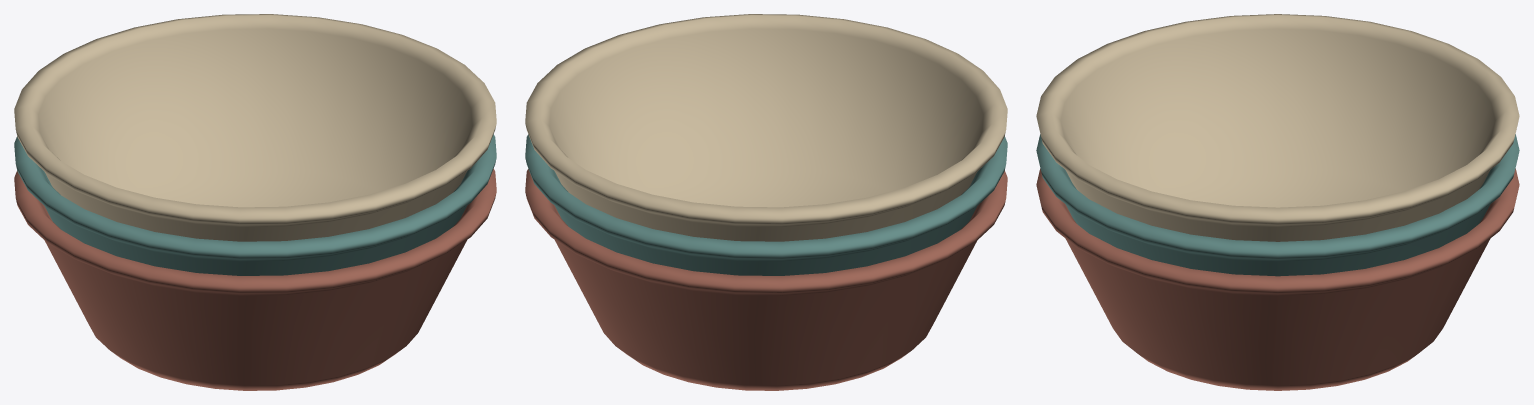
The model's file is basins-v1.glb.
3 views of the same model, side by side, from view 1: azimuth 30°, elevation 25°; view 2: azimuth 150°, elevation 25°; view 3: azimuth 270°, elevation 25° (orthographic).
Visible parts, largest first — view 1: 포갠 플라스틱 대야; view 2: 포갠 플라스틱 대야; view 3: 포갠 플라스틱 대야.
Part boxes in pixels (bbox=[...]): 포갠 플라스틱 대야: bbox=[14, 14, 496, 390]; 포갠 플라스틱 대야: bbox=[525, 14, 1007, 390]; 포갠 플라스틱 대야: bbox=[1036, 14, 1519, 390].
Bounding box in the file's own units: 0.574 × 0.28 × 0.574.
